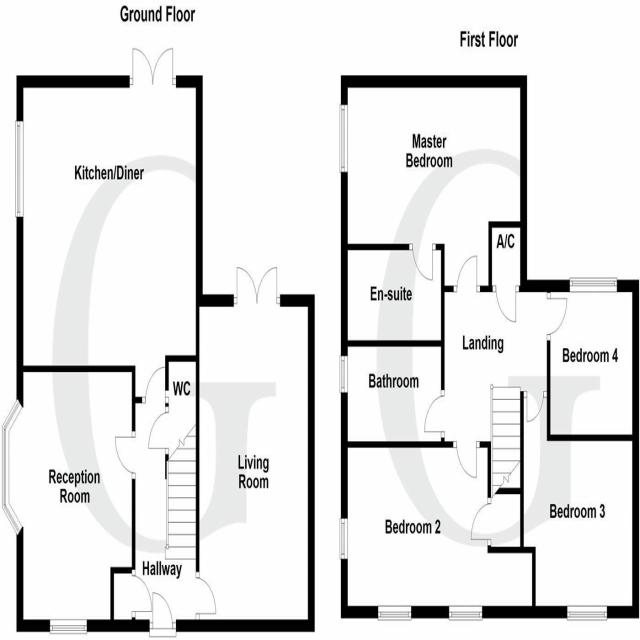DOOR: (149, 591, 176, 637), (453, 440, 480, 481), (113, 431, 136, 478), (469, 496, 491, 544), (547, 292, 569, 340), (196, 572, 218, 619), (410, 244, 435, 285), (132, 569, 152, 620), (523, 391, 547, 425)
DOUBLE DOOR: (129, 43, 177, 88)
ROOM: (16, 42, 203, 402), (195, 262, 316, 633), (341, 75, 529, 291), (0, 364, 136, 631), (341, 442, 536, 619), (520, 391, 639, 618), (547, 277, 639, 440)
WINDOW: (1, 394, 25, 540), (13, 115, 27, 221), (569, 276, 618, 295), (338, 101, 350, 175), (48, 617, 88, 637), (566, 603, 608, 622), (448, 604, 484, 622), (377, 604, 412, 622), (339, 354, 349, 395), (339, 517, 348, 561)
